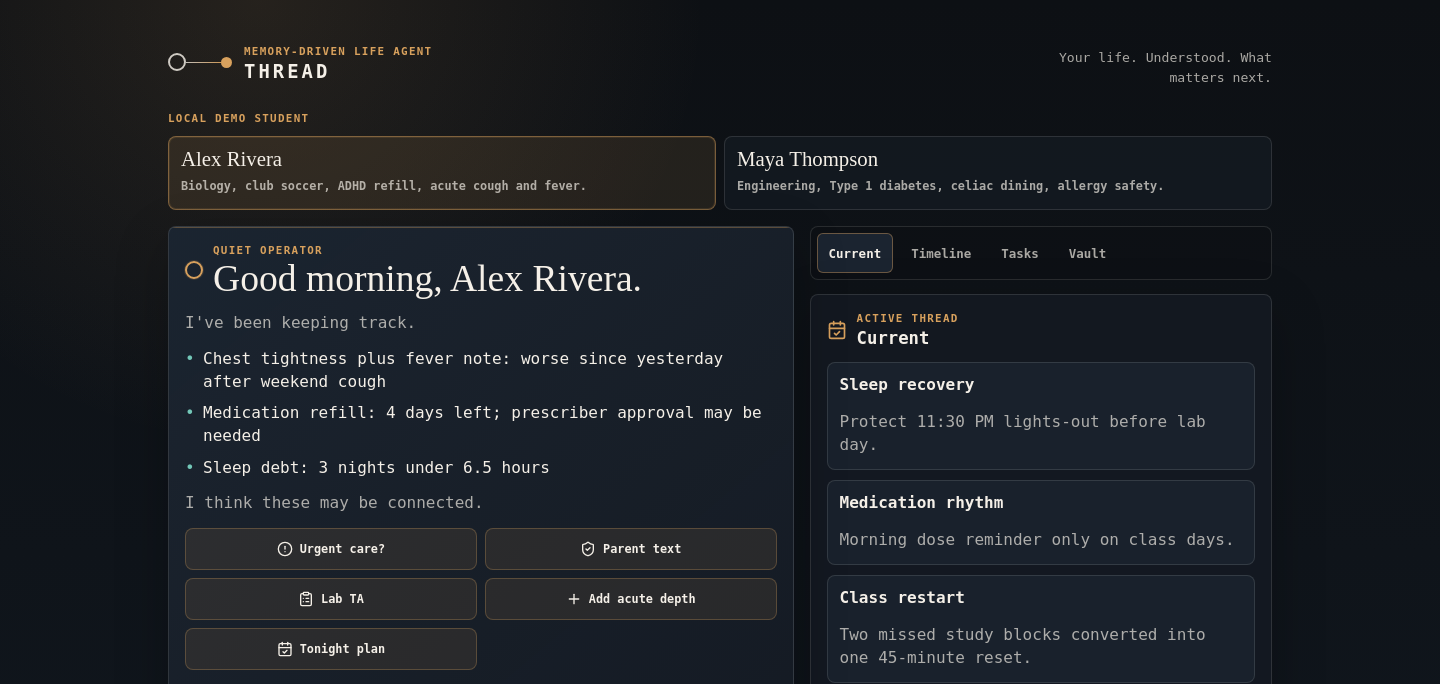
Test: THREAD app shell › lets the agent draft a parent-safe reassurance update from a quick tool
Click the button with aria-label "draft parent-safe update" at (631, 549), box [485,528,777,570]
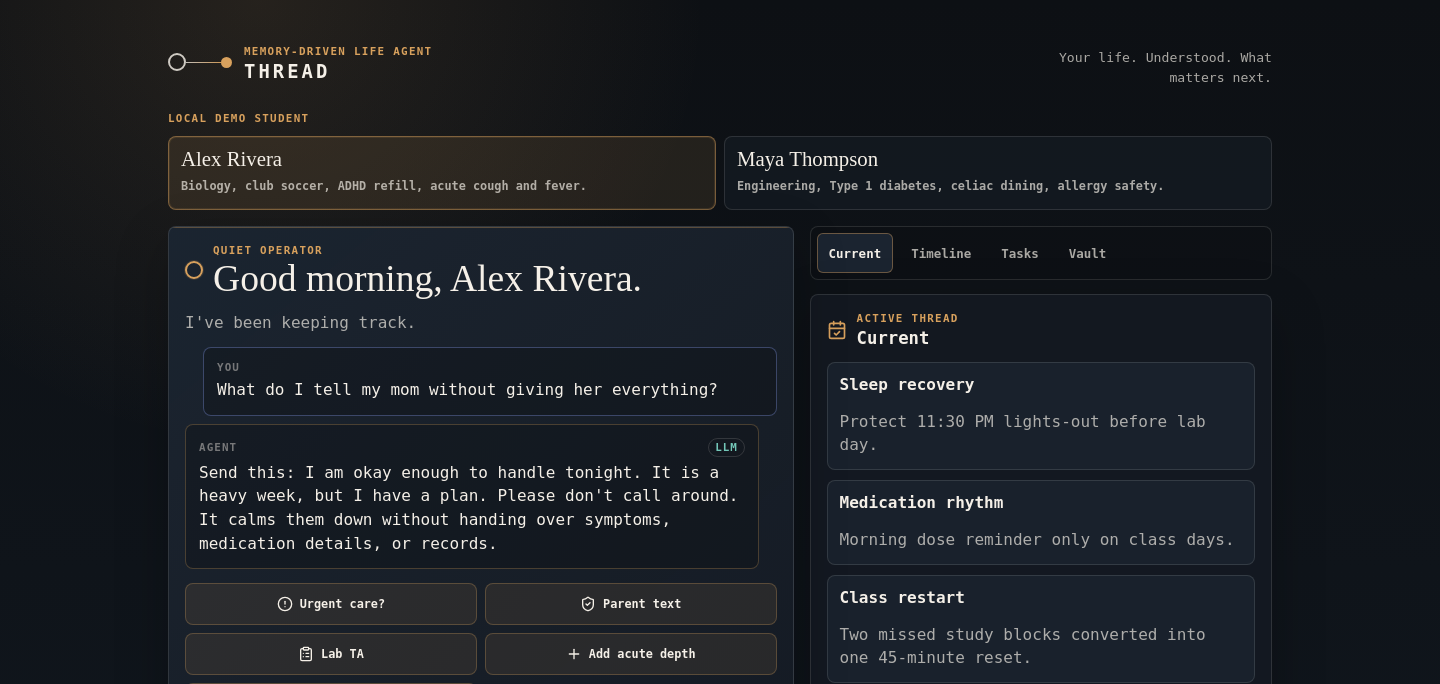
Now the text "without handing over symptoms, medication details, or records" is shown, box [199,462,738,552]
